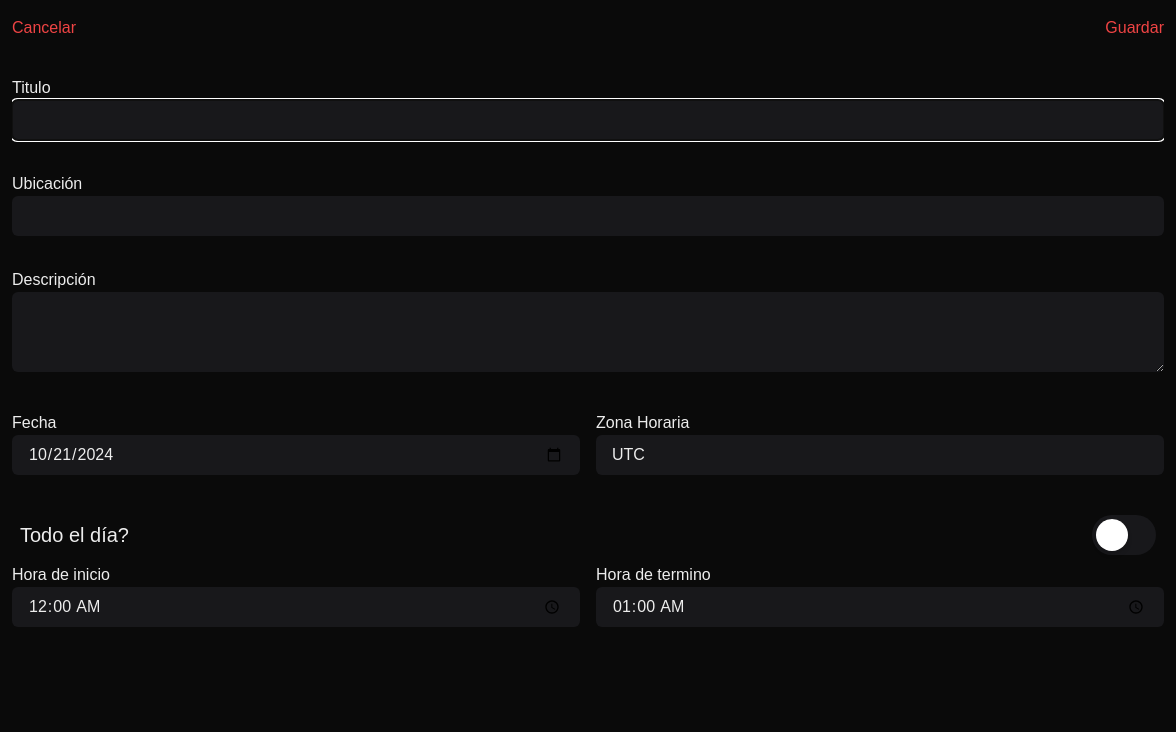
it: EventForm › start date must be < than end date
Replace the text in the time field labelled "Hora de inicio" with "10:00": (296, 607) [12, 587, 580, 627]
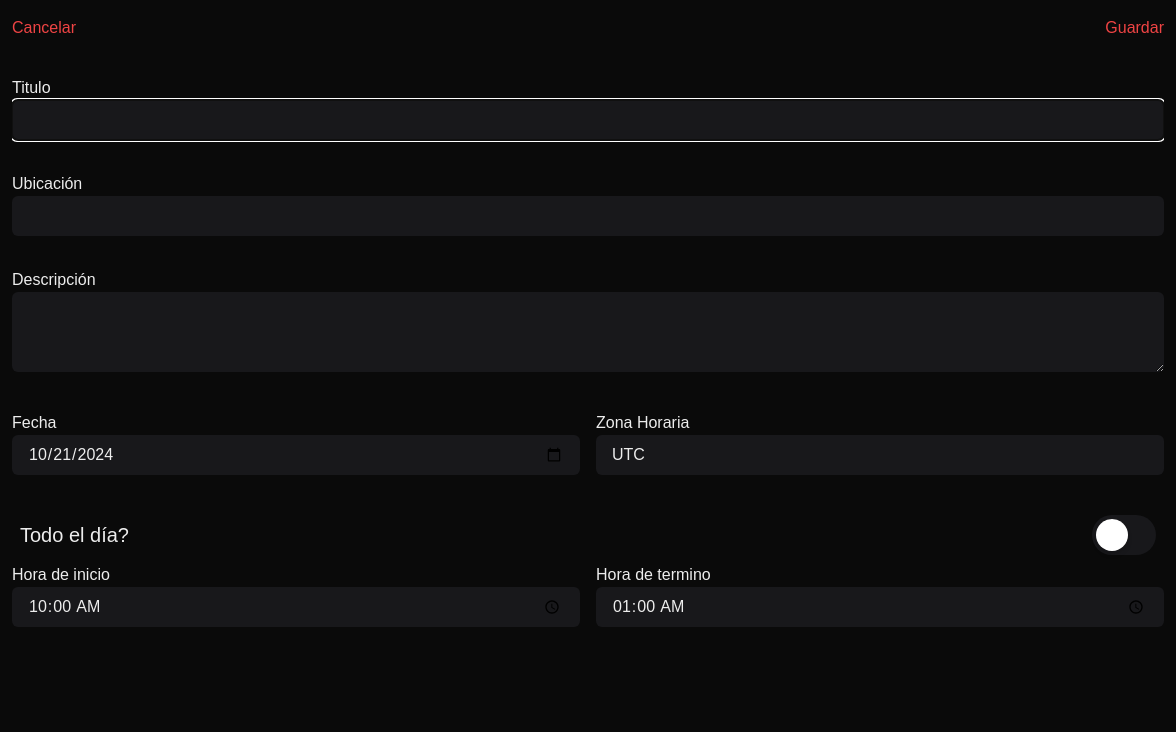
Replace the text in the time field labelled "Hora de termino" with "09:00": (880, 607) [596, 587, 1164, 627]
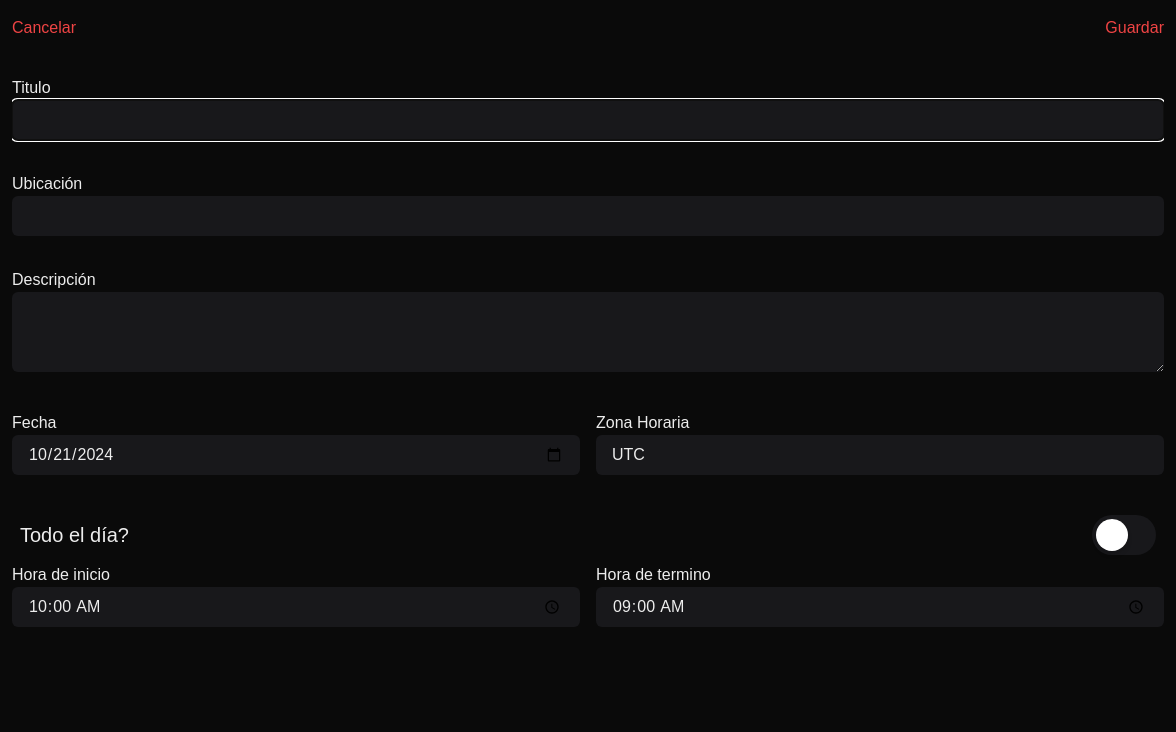
Click the button "Guardar": (1135, 28) [1105, 12, 1164, 44]
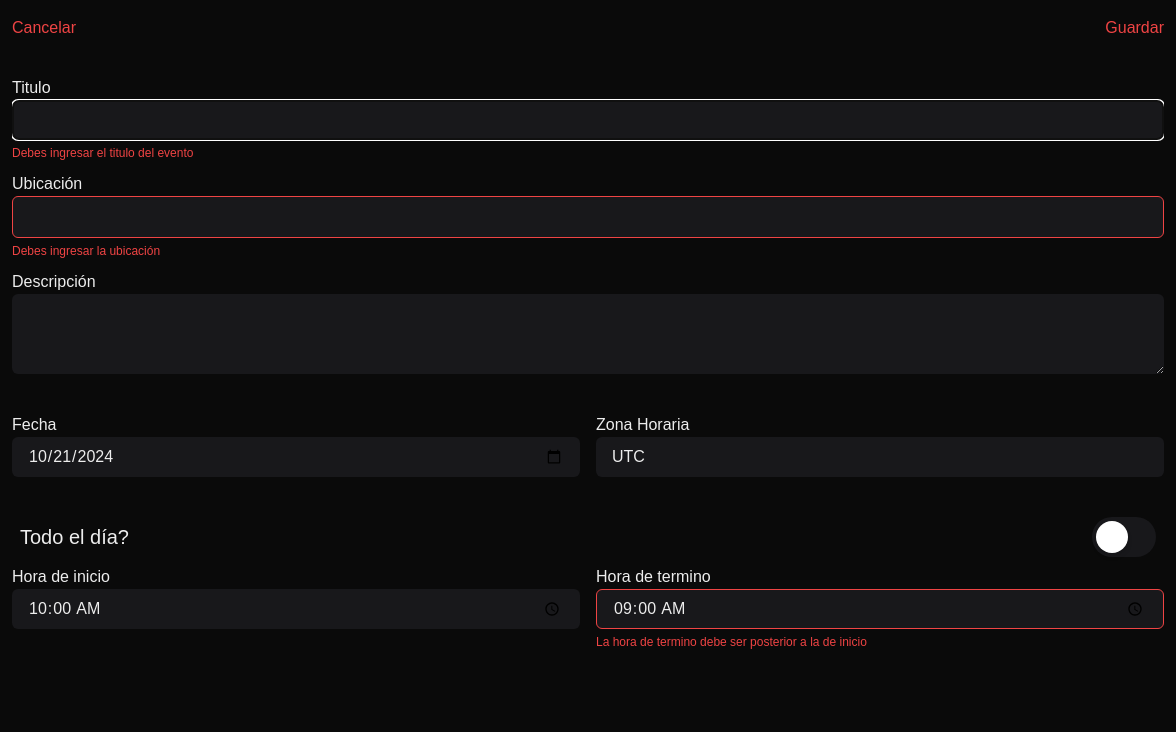
Expected: the text with test id "error" reads "La hora de termino debe ser posterior a la de inicio", [596, 635, 867, 649]
